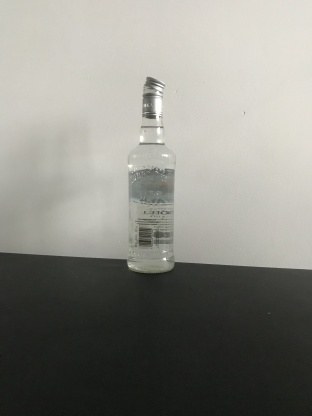nakretka: (140, 74, 166, 119)
